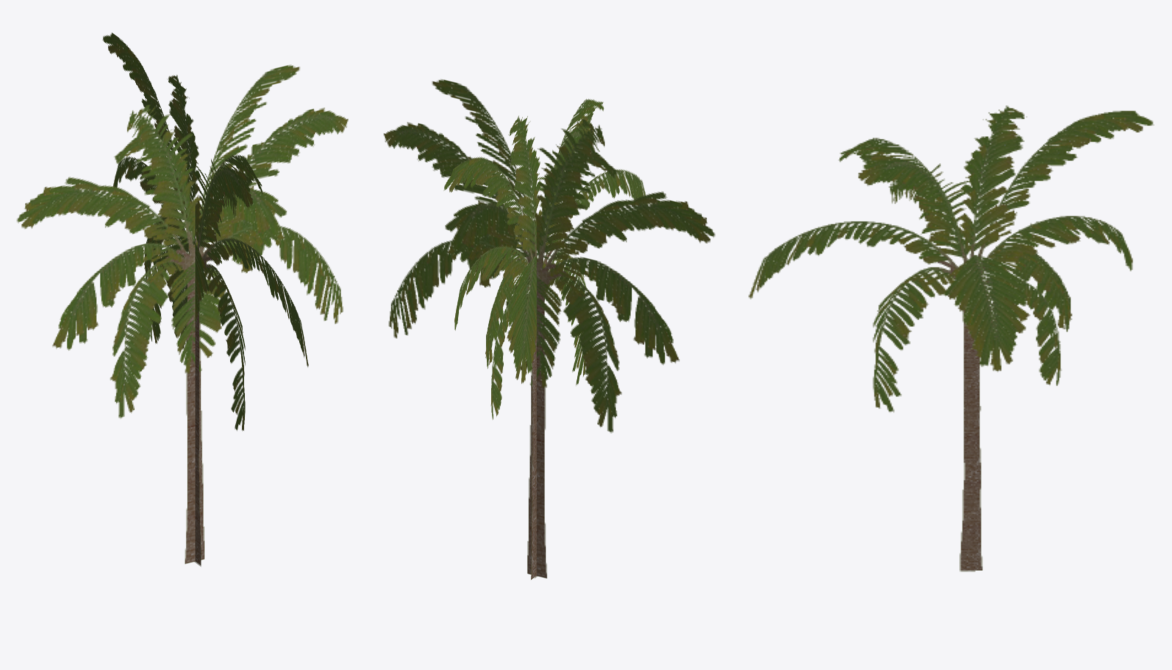
Rendered from AiphanesHorrida.glb.
The picture shows the model from 3 angles, left to right: view 1: azimuth 30°, elevation 25°; view 2: azimuth 150°, elevation 25°; view 3: azimuth 270°, elevation 25°; orthographic projection.
Visible parts, largest first — view 1: mesh__mat_billboard_9; view 2: mesh__mat_billboard_9; view 3: mesh__mat_billboard_9.
Boxes of the visible parts, x1=… form: mesh__mat_billboard_9: x1=16, y1=32, x2=348, y2=566; mesh__mat_billboard_9: x1=383, y1=79, x2=715, y2=579; mesh__mat_billboard_9: x1=748, y1=105, x2=1153, y2=571.
Size of the model in its own units: 7.41 by 10.25 by 7.97.
Materials: 1 (1 with a texture image).
